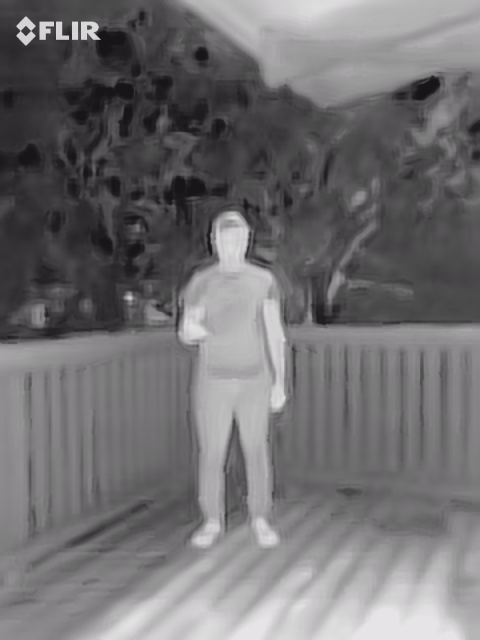head: (209, 211, 250, 262)
